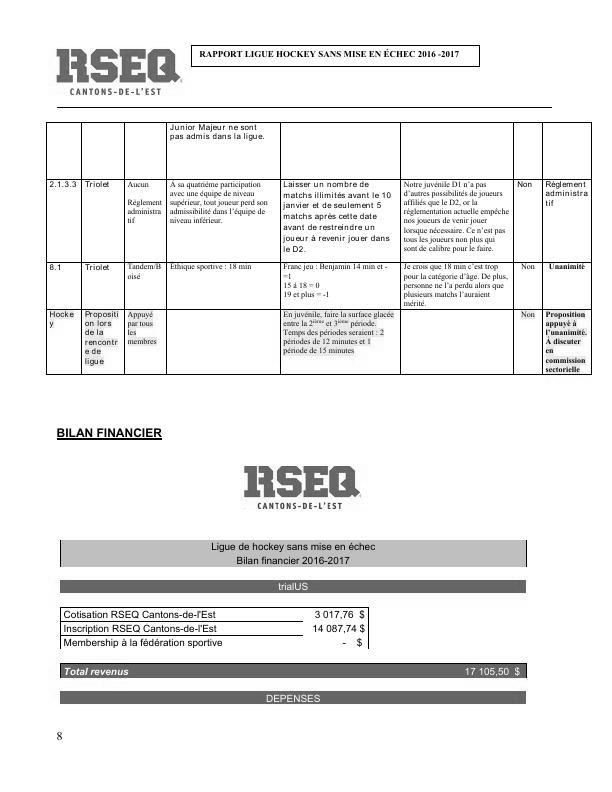table: (41, 118, 598, 382), (54, 534, 536, 709)
text: (54, 422, 168, 442)
